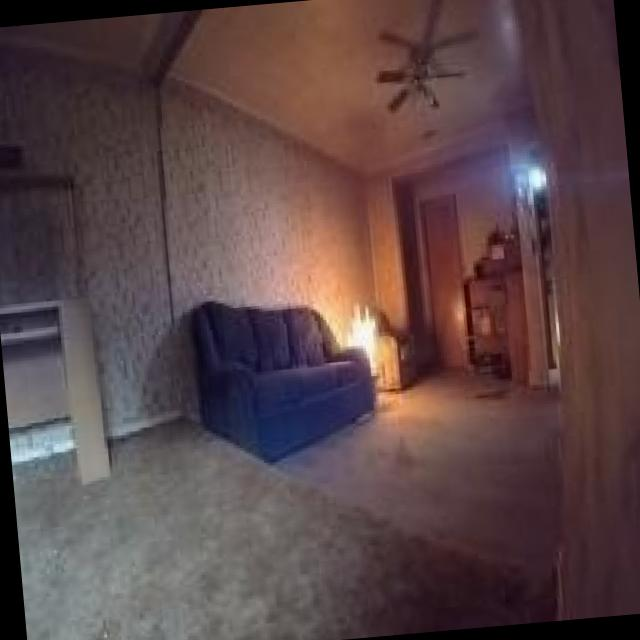fire: (347, 298, 396, 369)
